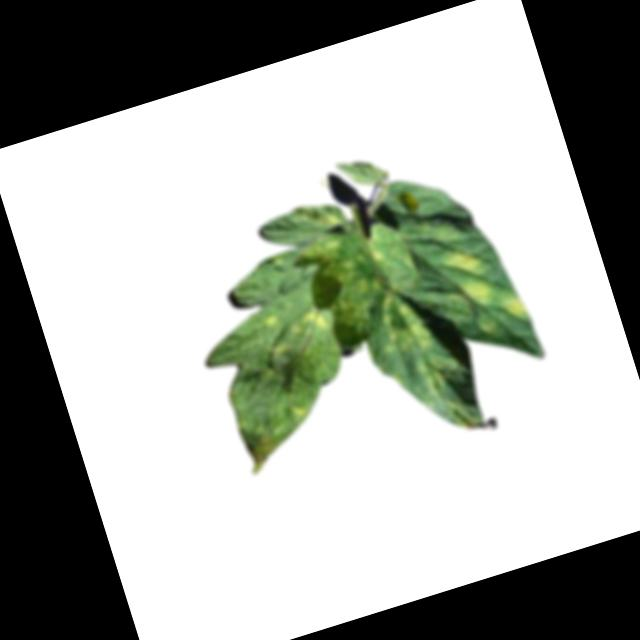Leaf_Mold: (292, 224, 393, 347), (365, 284, 437, 367), (433, 242, 495, 320), (407, 347, 465, 407), (236, 419, 289, 478), (285, 305, 328, 342), (503, 290, 533, 326), (287, 400, 309, 427), (260, 310, 284, 334)
